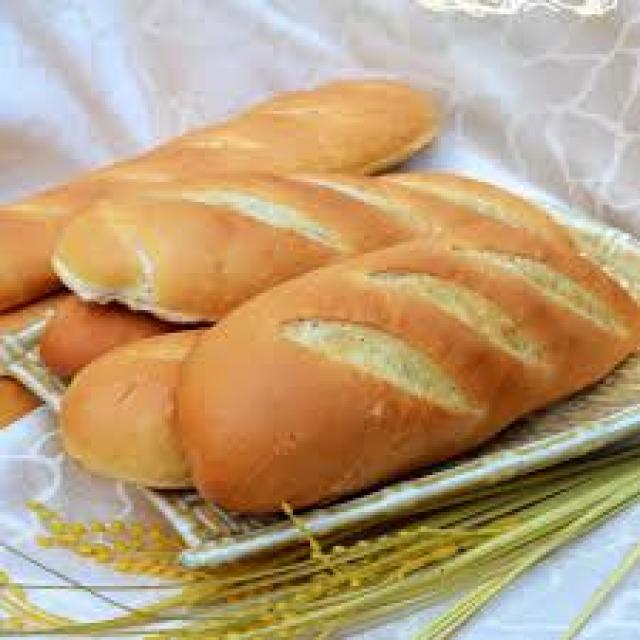organic waste: (171, 216, 637, 518), (0, 430, 637, 637), (0, 77, 444, 310), (46, 165, 572, 324), (57, 319, 202, 489), (40, 288, 202, 376)
